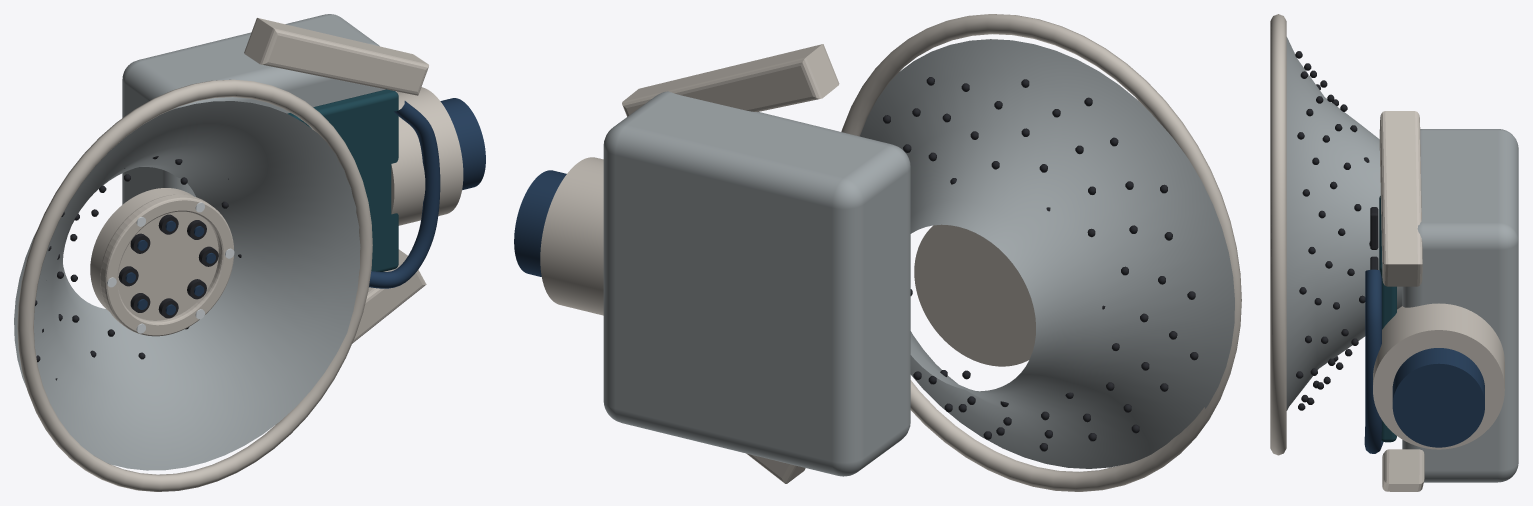
File: anatomy-03.glb
3 renders of one model, left to right at view 1: azimuth 30°, elevation 25°; view 2: azimuth 150°, elevation 25°; view 3: azimuth 270°, elevation 25°, orthographic. The views are drawn at different scales.
Parts seen in each view (by area): view 1: horn, chassis, array, connector, board, retaining, cable, sensors, grille; view 2: horn, chassis, array, connector, grille; view 3: chassis, horn, connector, cable, grille, board.
Part boxes in pixels (x1,y1,x2,y2): horn: [14, 79, 372, 491]; chassis: [122, 14, 428, 343]; array: [90, 188, 218, 320]; connector: [391, 87, 485, 225]; board: [287, 89, 398, 271]; retaining: [100, 194, 234, 336]; cable: [369, 101, 440, 288]; sensors: [118, 214, 218, 318]; grille: [35, 156, 241, 380]; horn: [841, 14, 1241, 491]; chassis: [603, 44, 910, 483]; array: [914, 224, 1035, 366]; connector: [514, 157, 603, 315]; grille: [883, 77, 1198, 451]; chassis: [1379, 111, 1518, 491]; horn: [1270, 14, 1402, 455]; connector: [1373, 303, 1504, 449]; cable: [1364, 269, 1383, 453]; grille: [1295, 51, 1370, 410]; board: [1370, 196, 1396, 442].
Size of the model in its own units: 1.89 by 1.39 by 0.7686.
